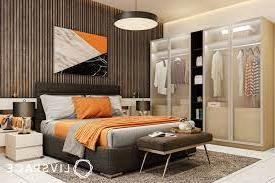bed: (34, 89, 192, 178)
light: (108, 1, 163, 34), (15, 100, 36, 134), (131, 94, 153, 120)
table: (136, 128, 212, 178), (5, 130, 43, 163)
